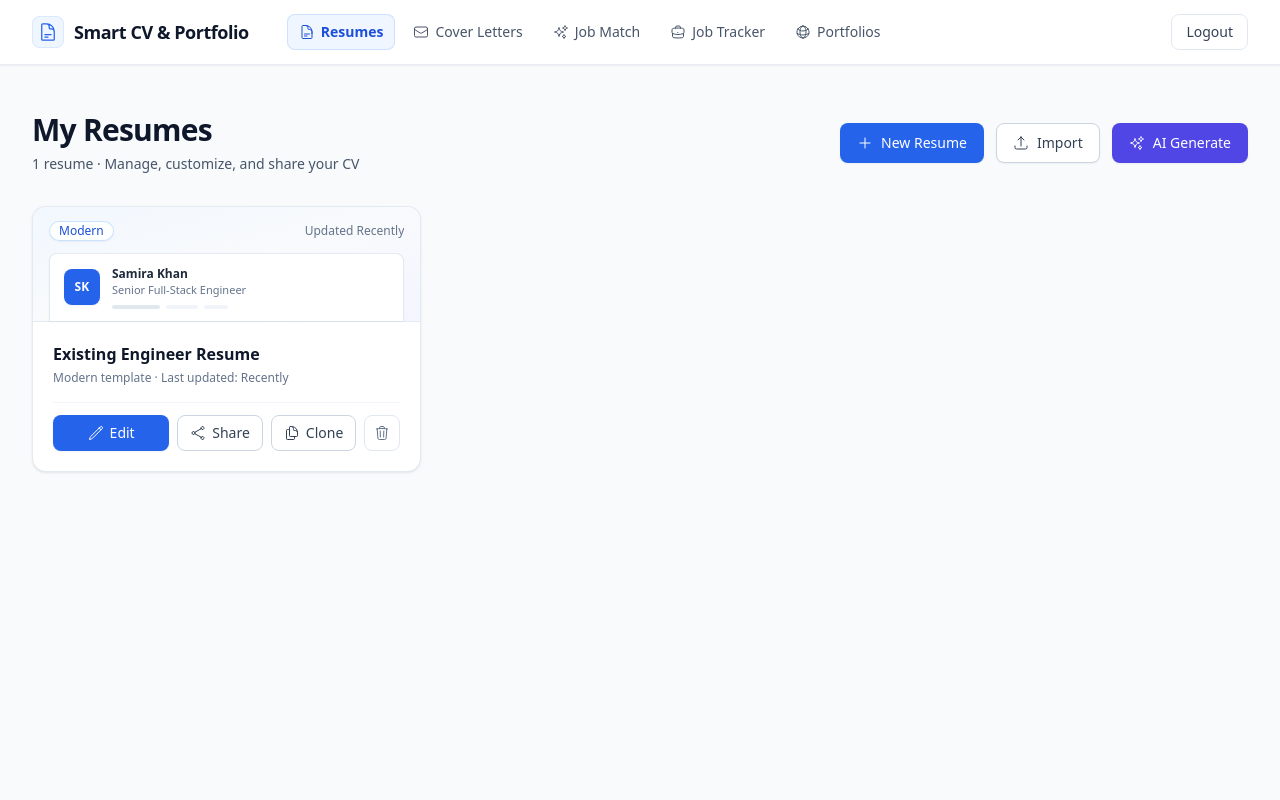
Test: Resume Import Modal & Editor Export JSON integration › parses pasted resume text, shows an editable review step, persists user edits, and creates the resume
Step 1. Click the button with test id "import-resume-btn" → (1048, 143), box [996, 123, 1100, 163]
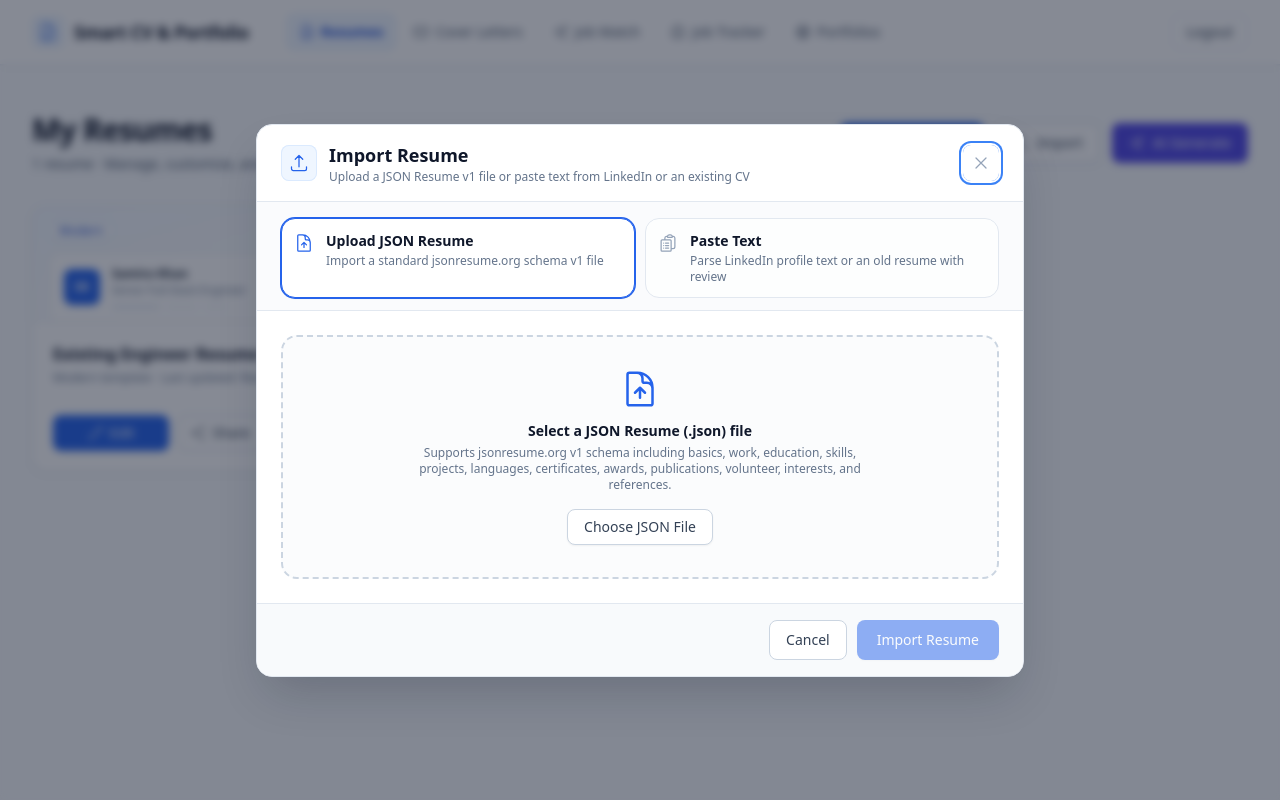
# Switch to Paste Text tab
Step 2. Click the tab "Paste Text" → (822, 258), box [645, 218, 999, 298]
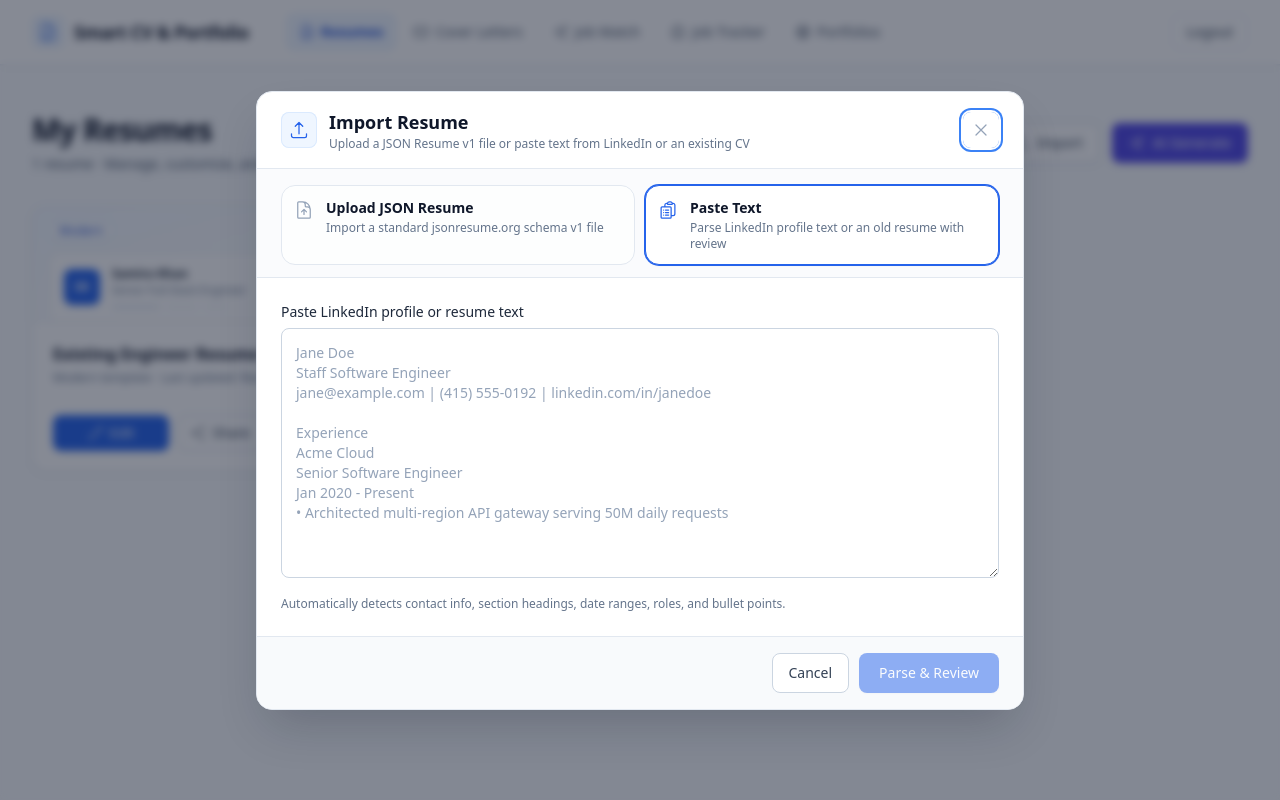
Step 3. Replace the text in the text box with test id "paste-resume-textarea" with "Nadia Alvarez Principal Data Engineer nadia.alvarez@example.com | (415) 555-0133 Experience Data Platform Lead at Horizon Analytics Jan 2020 - Present • Built petabyte-scale lakehouse ingestion on Spa" → (640, 452), box [281, 328, 999, 578]
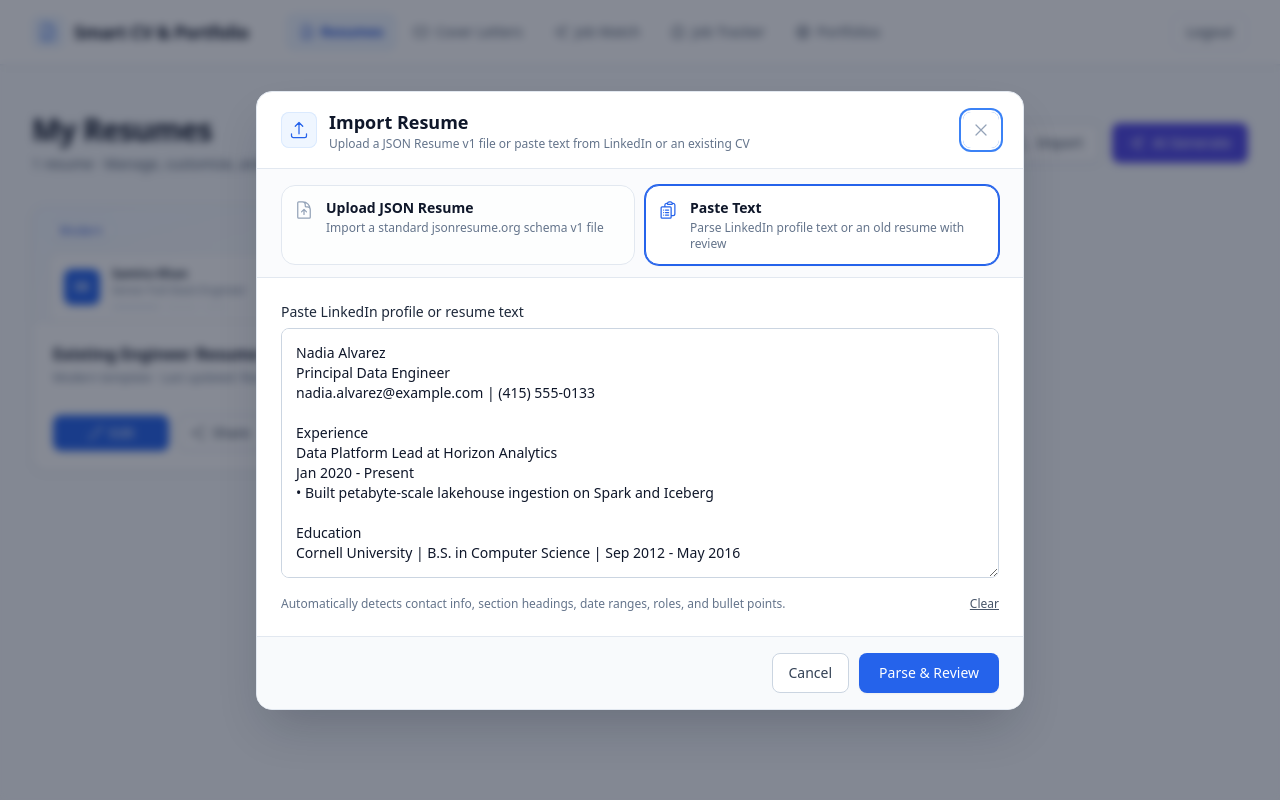
Step 4. Click the button with test id "parse-text-review-btn" → (929, 672), box [859, 652, 999, 692]
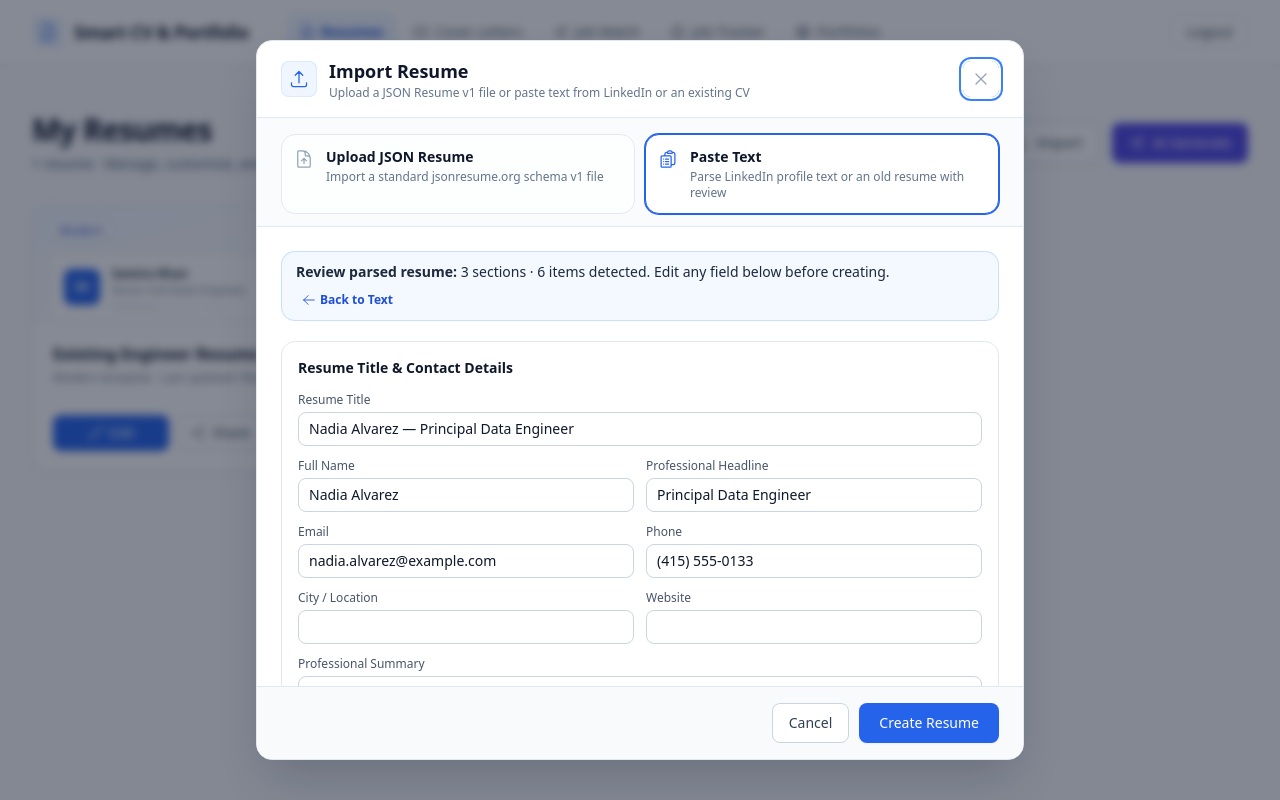
Expected: the field labelled "Full Name" holds "Nadia Alvarez"
Step 5. Replace the text in the field labelled "Full Name" with "Nadia M. Alvarez" → (466, 495), box [298, 478, 634, 512]
(page scrolled)
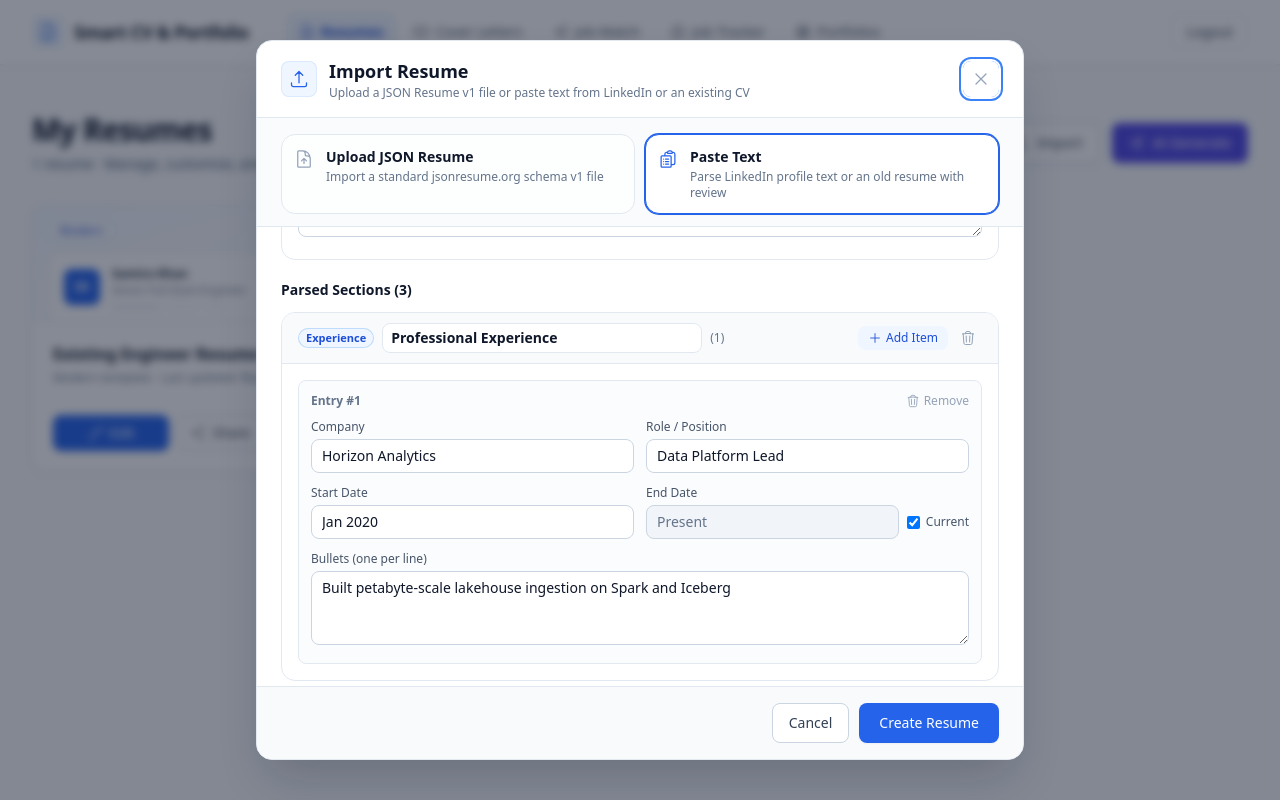
Expected: the field named "Role for Horizon Analytics" holds "Data Platform Lead"
Step 6. Replace the text in the field named "Role for Horizon Analytics" with "VP of Data Platform" → (808, 456), box [646, 439, 969, 473]
Step 7. Click the button with test id "create-from-review-btn" → (929, 723), box [859, 703, 999, 743]
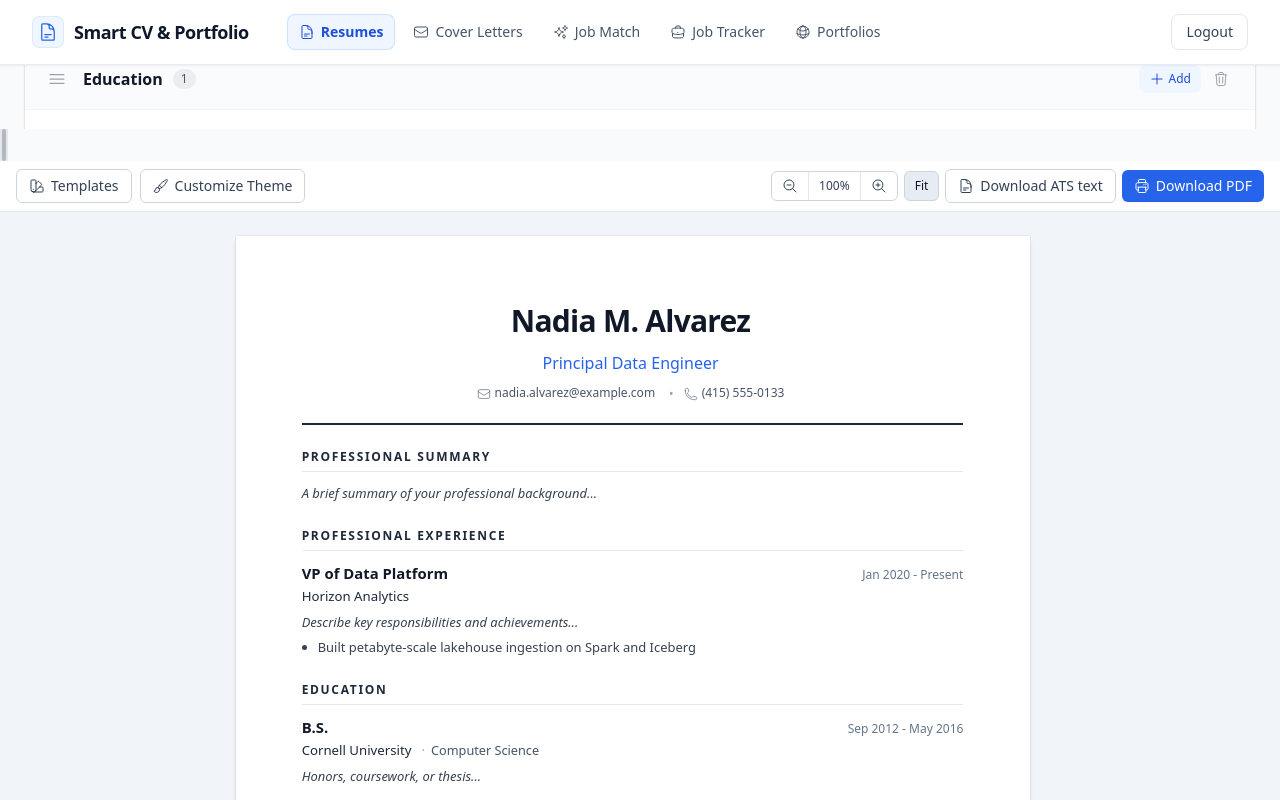
Expected: the button "Nadia M. Alvarez" is shown, [511, 300, 750, 341]
Expected: the button "nadia.alvarez@example.com" is shown, [490, 385, 659, 403]
